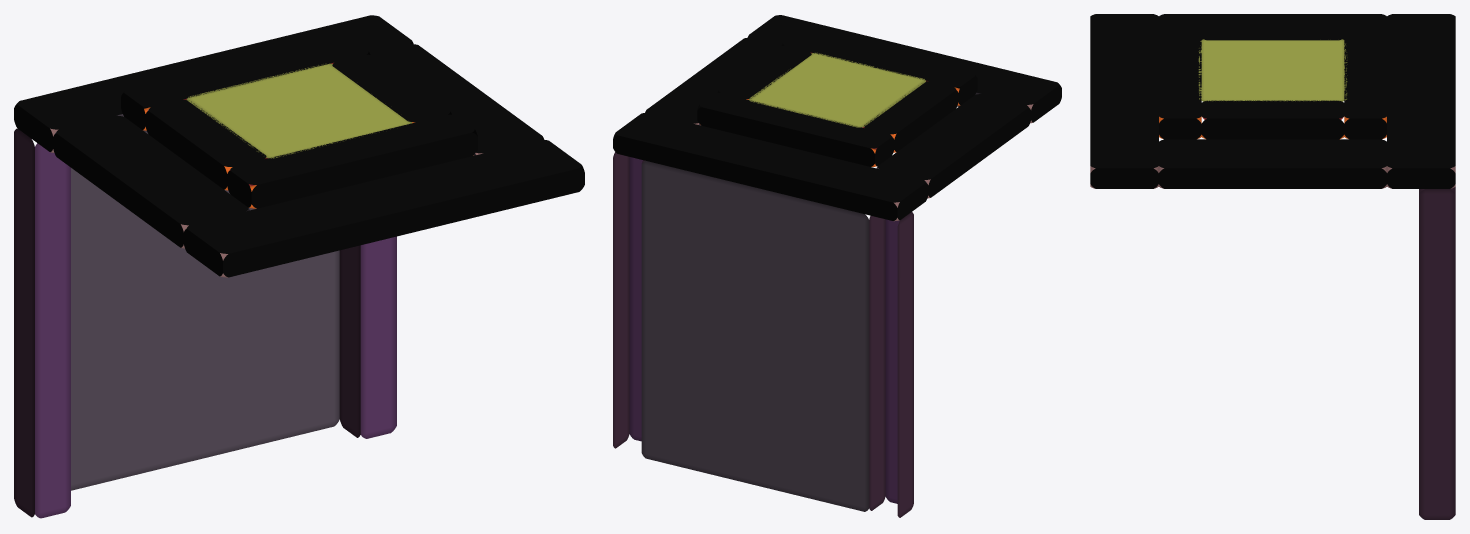
The model's file is 001-ESW.obj.
The picture shows the model from 3 angles, left to right: view 1: azimuth 30°, elevation 25°; view 2: azimuth 150°, elevation 25°; view 3: azimuth 270°, elevation 25°; orthographic projection. The views are drawn at different scales.
Visible parts, largest first — view 1: N, Roof; view 2: N, Roof; view 3: Roof, N.
Part boxes in pixels (left/top/right/bottom): N: left=14, top=128, right=396, bottom=518; Roof: left=14, top=15, right=584, bottom=277; N: left=613, top=152, right=913, bottom=517; Roof: left=613, top=15, right=1061, bottom=221; Roof: left=1090, top=14, right=1455, bottom=188; N: left=1419, top=187, right=1455, bottom=519.
Size of the model in its own units: 2 by 2.25 by 2.
2 materials, 2 textured.
